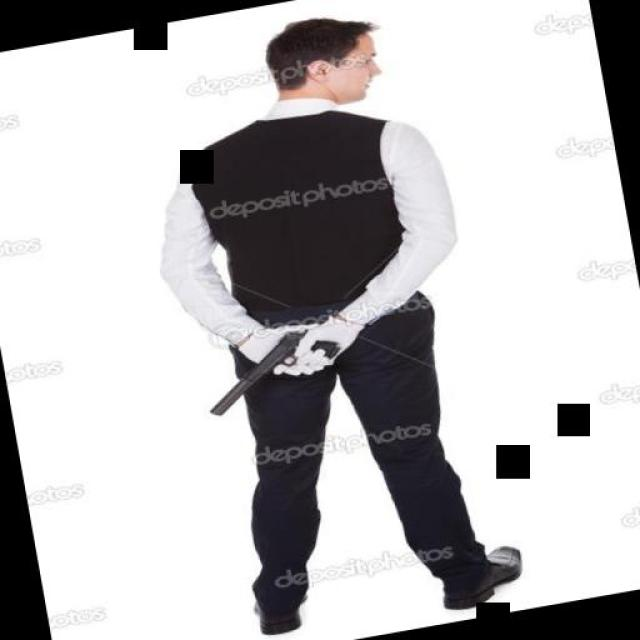gun: (188, 311, 350, 431)
